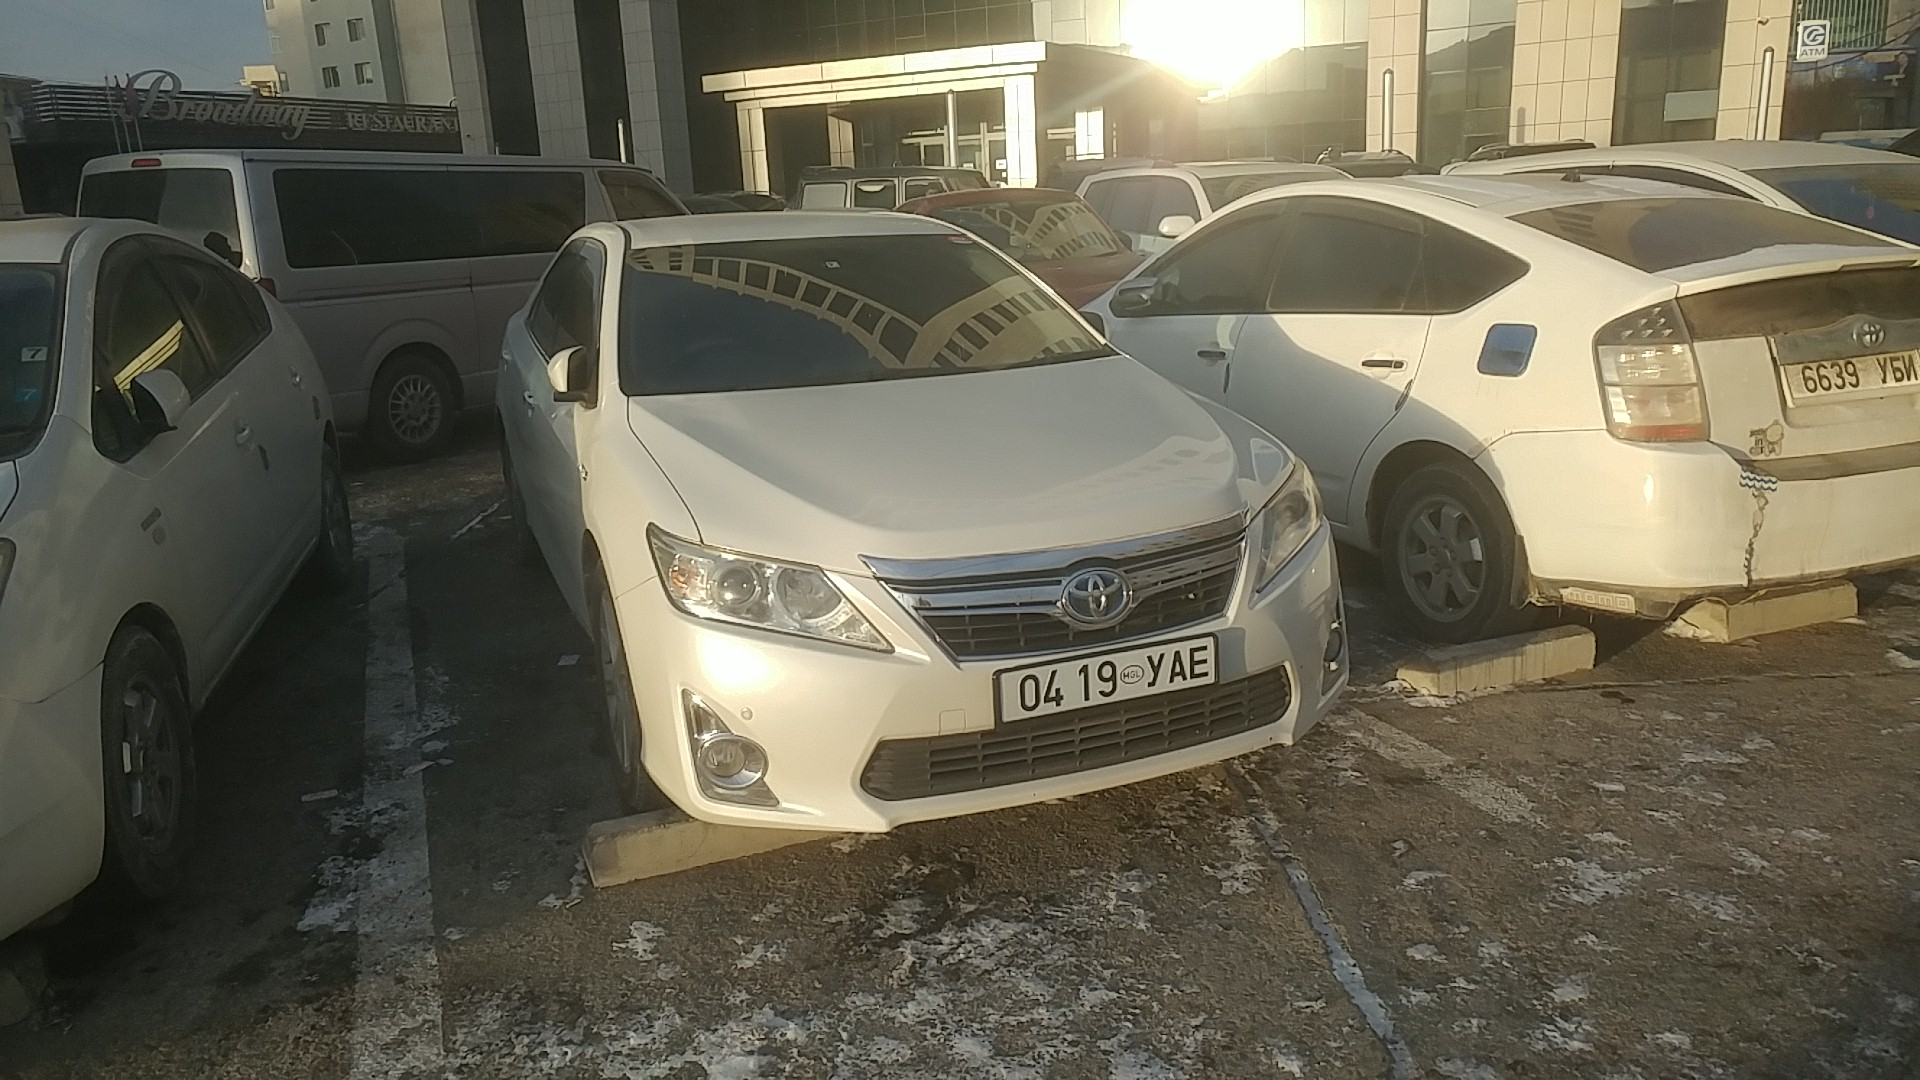0: (1018, 673, 1042, 711)
1: (1077, 664, 1092, 702)
3: (1830, 361, 1847, 389)
4: (1043, 669, 1065, 707)
6: (1800, 364, 1819, 393), (1816, 363, 1833, 391)
9: (1095, 659, 1118, 697), (1844, 360, 1861, 389)
a: (1168, 648, 1187, 683)
b: (1889, 355, 1905, 383)
i: (1901, 353, 1920, 382)
plate: (988, 631, 1224, 726), (1779, 343, 1920, 407)
u: (1145, 652, 1167, 688), (1875, 356, 1889, 384)
ye: (1188, 644, 1211, 679)
